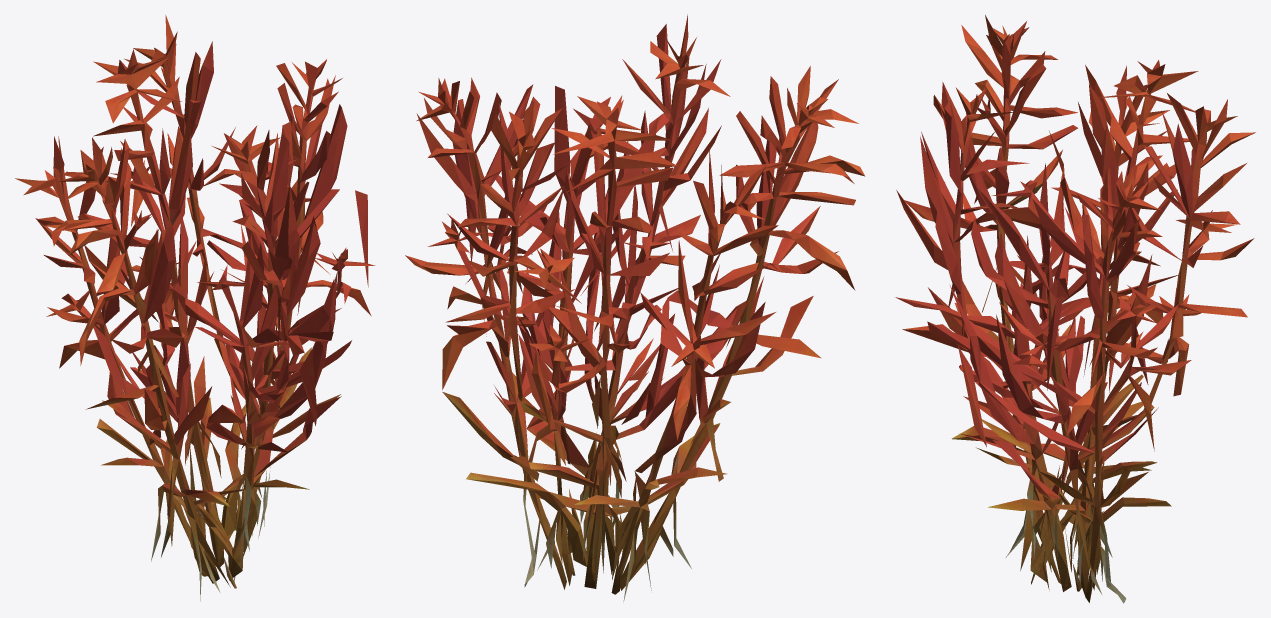
Rendered from rotala-rotundifolia.glb.
The picture shows the model from 3 angles, left to right: view 1: azimuth 30°, elevation 25°; view 2: azimuth 150°, elevation 25°; view 3: azimuth 270°, elevation 25°; orthographic projection. The views are drawn at different scales.
Parts seen in each view (by area): view 1: tripo_node_20888ec2-103e-4bc9-b6b1-70d4e049ac3b; view 2: tripo_node_20888ec2-103e-4bc9-b6b1-70d4e049ac3b; view 3: tripo_node_20888ec2-103e-4bc9-b6b1-70d4e049ac3b.
Boxes of the visible parts, box(x1,y1,x2,y2) form: tripo_node_20888ec2-103e-4bc9-b6b1-70d4e049ac3b: box(15, 15, 375, 601); tripo_node_20888ec2-103e-4bc9-b6b1-70d4e049ac3b: box(405, 14, 865, 601); tripo_node_20888ec2-103e-4bc9-b6b1-70d4e049ac3b: box(895, 15, 1255, 603).
Bounding box in the file's own units: 0.7065 × 0.9718 × 0.6284.
Materials: 1 (1 with a texture image).
